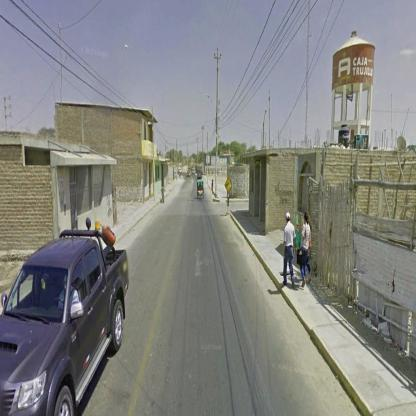Peaton: (298, 212, 312, 289), (284, 213, 297, 289), (213, 181, 214, 195)
Pista: (21, 170, 346, 389)
Vehiculo: (1, 218, 130, 416), (198, 180, 205, 200)
